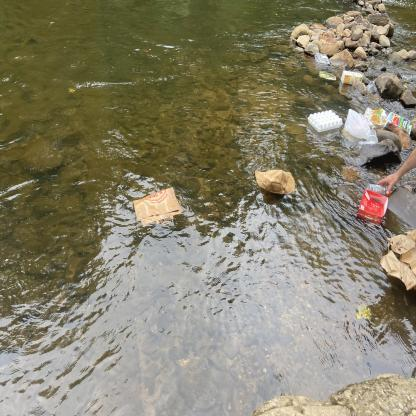trash: (129, 182, 185, 234), (379, 228, 416, 298), (251, 164, 298, 200), (357, 188, 390, 228), (307, 106, 346, 137), (342, 107, 372, 142), (382, 110, 414, 138), (364, 105, 392, 133), (339, 68, 365, 87), (364, 182, 394, 198), (313, 50, 332, 66), (318, 70, 339, 84), (364, 127, 378, 146), (358, 139, 374, 149)
